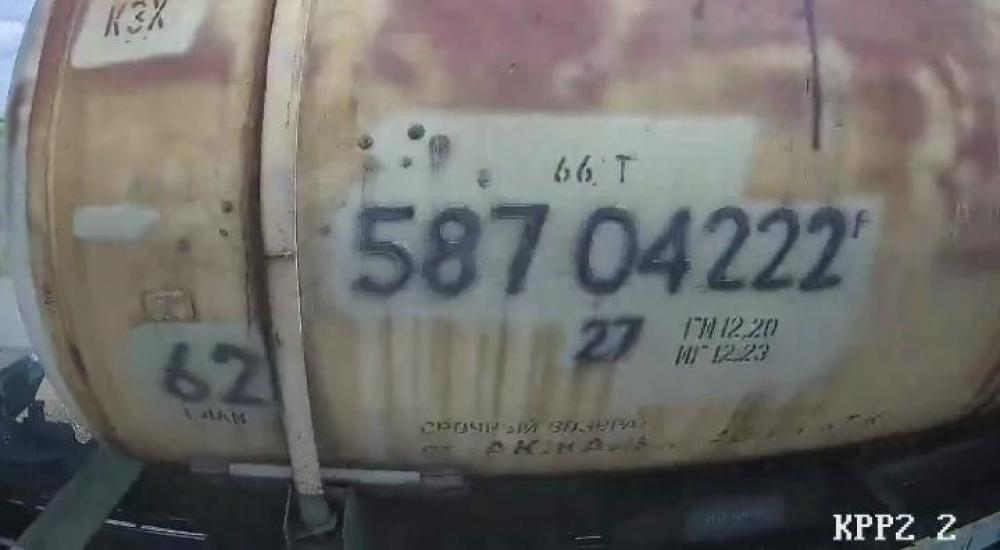Wagon-number: (348, 199, 852, 300)
